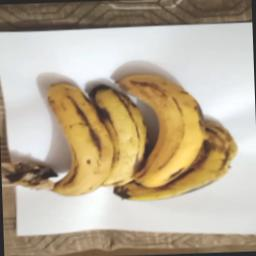Banana Unripe: (114, 54, 240, 206), (9, 76, 114, 198), (82, 78, 151, 208)
